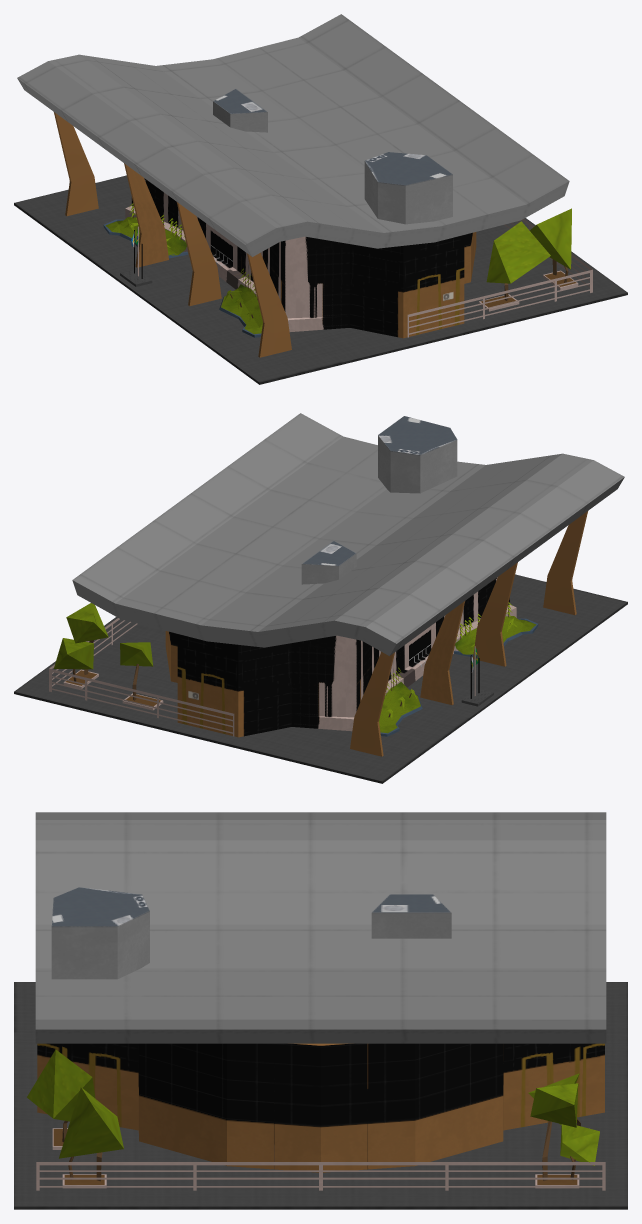
File: assembleiaLOD2.fbx
The picture shows the model from 3 angles, top to bottom: view 1: azimuth 30°, elevation 25°; view 2: azimuth 150°, elevation 25°; view 3: azimuth 270°, elevation 25°; orthographic projection. The views are drawn at different scales.
Visible parts, largest first — view 1: assembleiaLOD2.002; view 2: assembleiaLOD2.002; view 3: assembleiaLOD2.002.
Part boxes in pixels (left/top/right/bottom): assembleiaLOD2.002: left=14, top=14, right=627, bottom=384; assembleiaLOD2.002: left=14, top=413, right=627, bottom=783; assembleiaLOD2.002: left=14, top=812, right=627, bottom=1209.
Size of the model in its own units: 4184 by 1587 by 4755.
